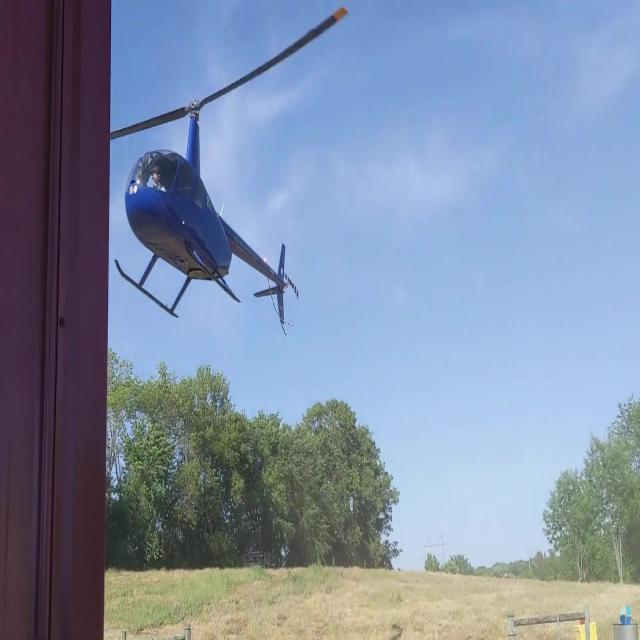CIV_HELO: (114, 98, 286, 326)
